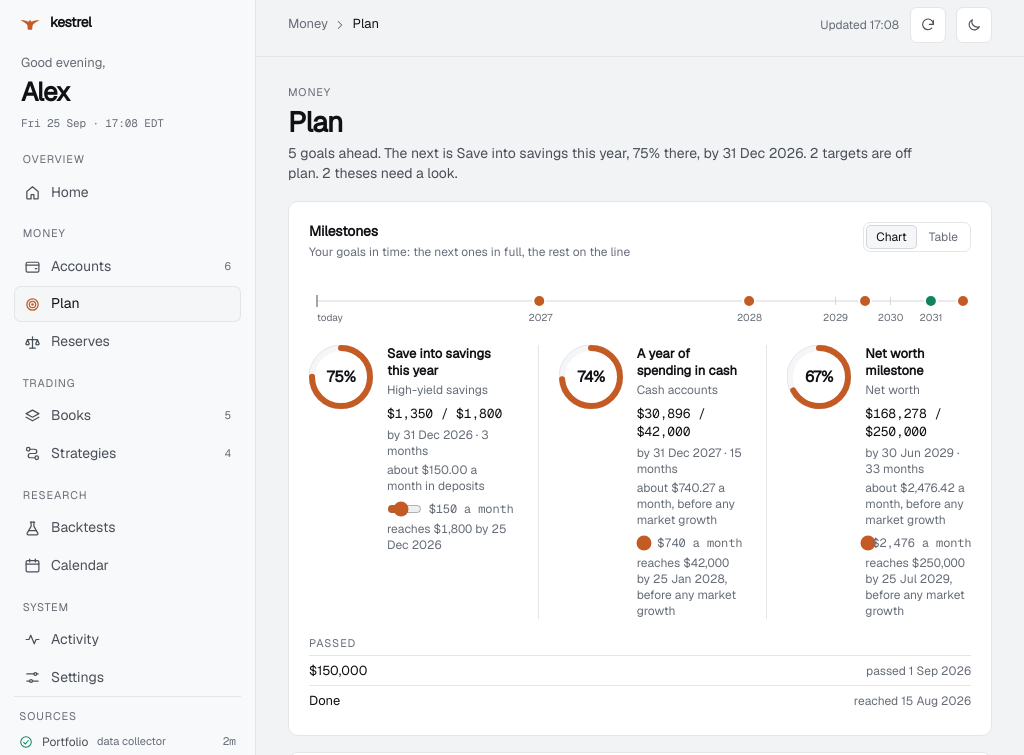
Test: Plan › Milestones: lists what was passed, says the day a goal was reached, and tries a monthly amount
Set the slider named "Save into savings this year: a month" to "300" at (407, 509), box [387, 501, 422, 517]
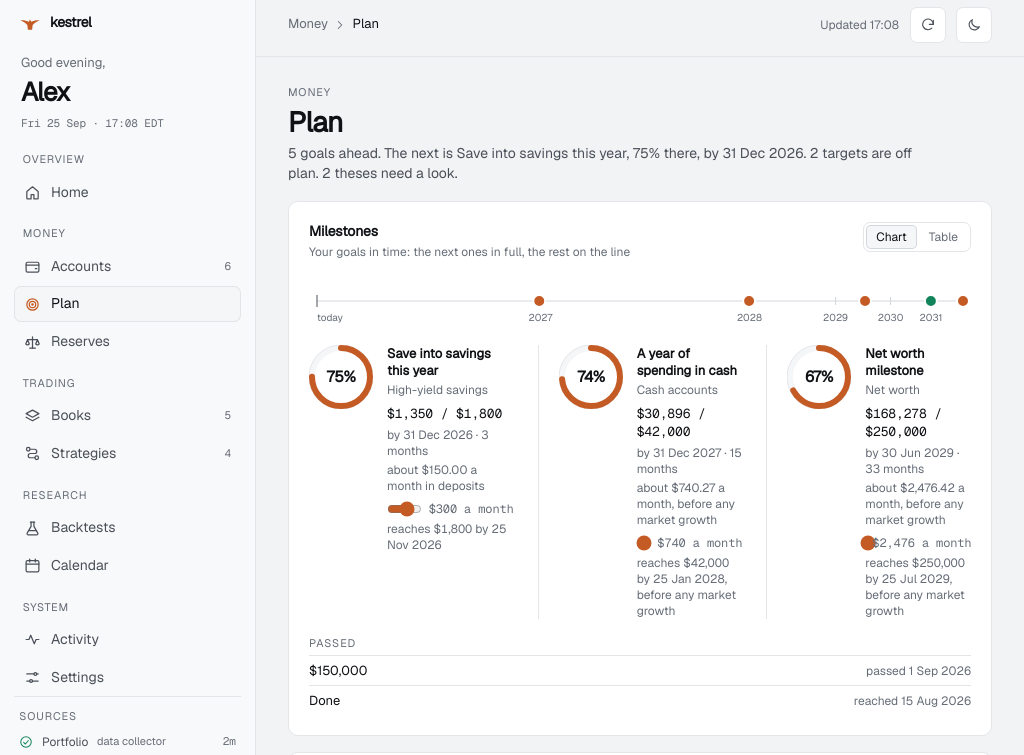
Now the element "Milestones" shows "reaches $1,800 by 25 Nov 2026", box [288, 201, 992, 736]
Set the slider named "Save into savings this year: a month" to "0" at (395, 509), box [387, 501, 422, 517]
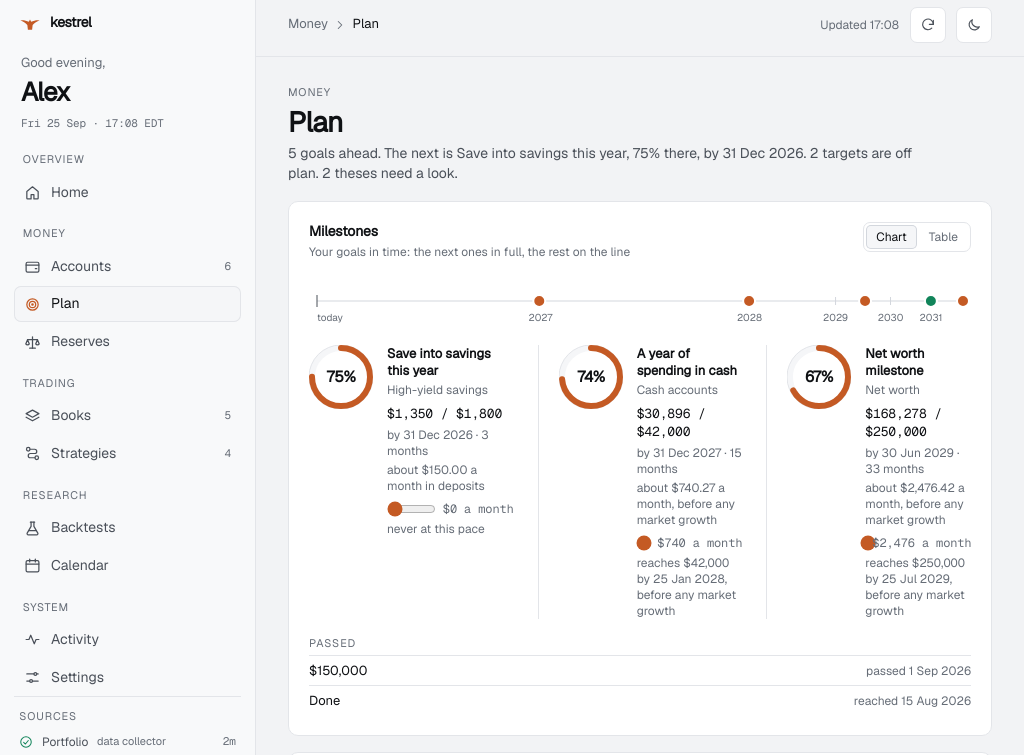
Now the element "Milestones" shows "never at this pace", box [387, 521, 485, 537]
Click the button "Table" at (943, 237), box [919, 225, 968, 249]
(page scrolled)
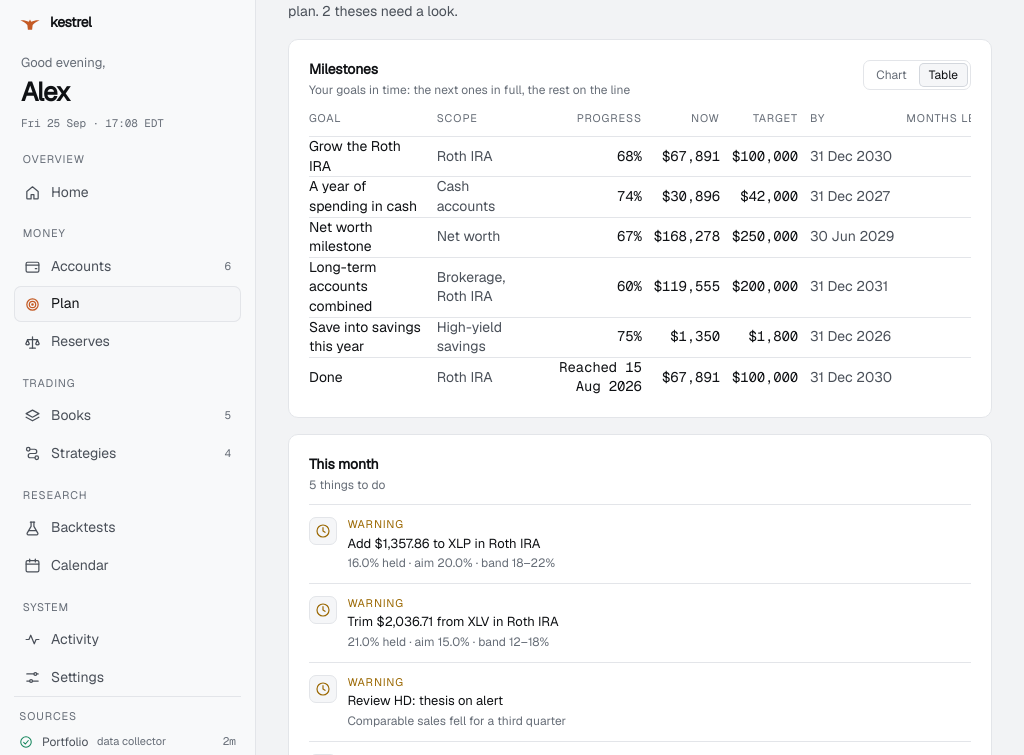
Now the row that starts with "Done" shows "Reached 15 Aug 2026", box [559, 358, 642, 396]
